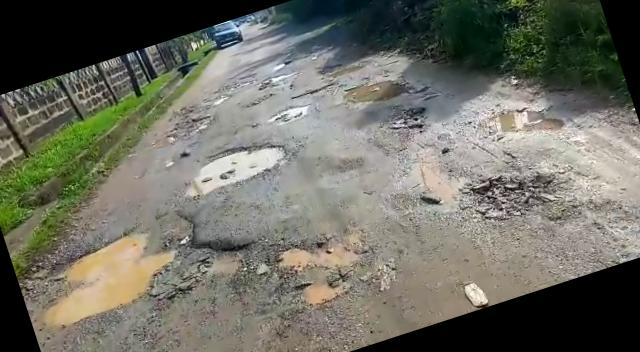pothole: (17, 190, 266, 340), (253, 222, 383, 326), (170, 128, 300, 203), (458, 154, 574, 235), (472, 90, 568, 156), (339, 70, 415, 115), (372, 102, 431, 148), (152, 115, 215, 152), (286, 79, 336, 102), (267, 100, 310, 126)
